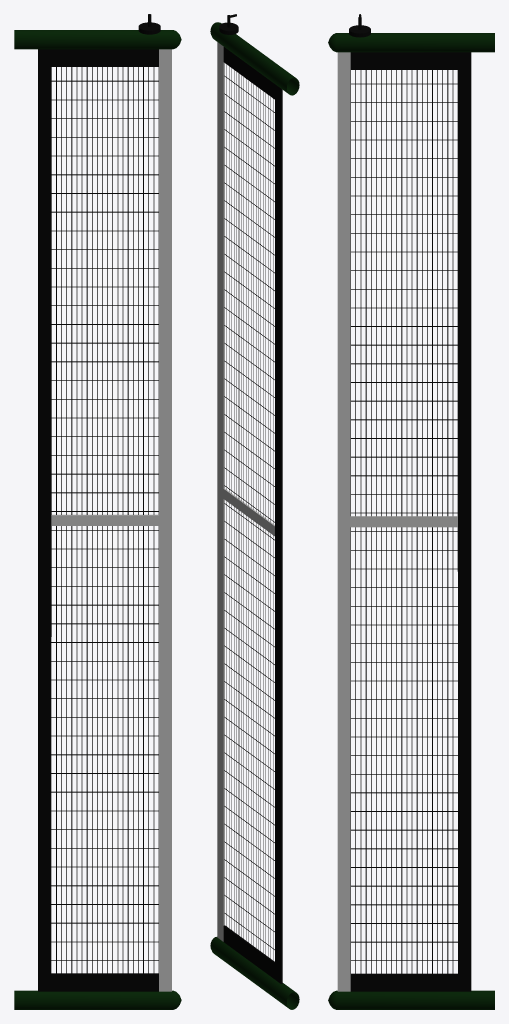
Rendered from net.obj.
The picture shows the model from 3 angles, left to right: view 1: azimuth 90°, elevation 25°; view 2: azimuth 210°, elevation 25°; view 3: azimuth 270°, elevation 25°; orthographic projection. The views are drawn at different scales.
Parts seen in each view (by area): view 1: Net_Untitled.004; view 2: Net_Untitled.004; view 3: Net_Untitled.004.
Part boxes in pixels (x1=…): Net_Untitled.004: x1=14, y1=14, x2=181, y2=1009; Net_Untitled.004: x1=210, y1=14, x2=299, y2=1009; Net_Untitled.004: x1=328, y1=14, x2=494, y2=1009.
Size of the model in its own units: 0.115 by 6.36 by 0.9691.
